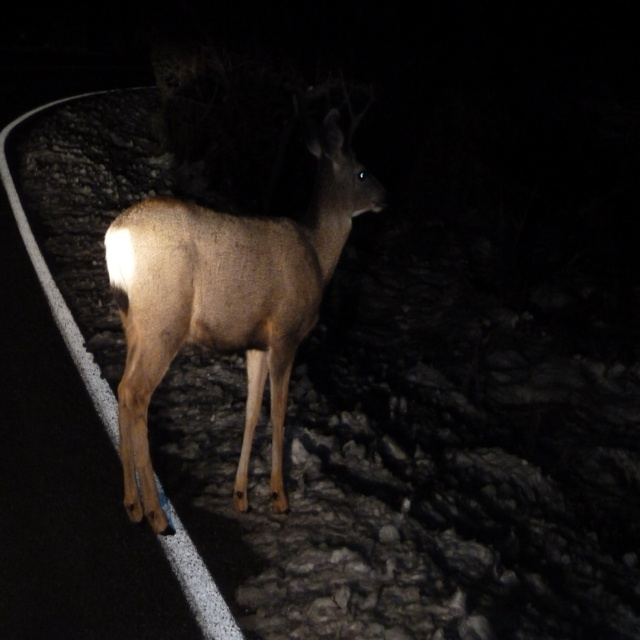Deer: (102, 110, 385, 536)
